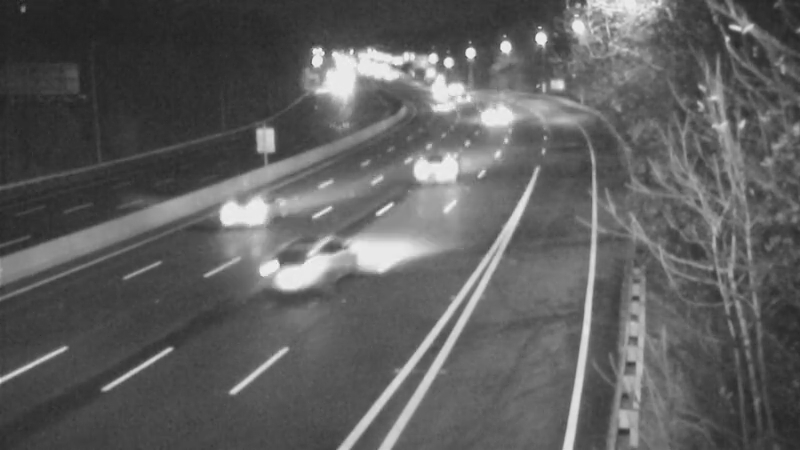vehicle: (403, 132, 483, 212), (206, 167, 286, 247), (249, 225, 329, 305), (410, 84, 460, 134), (469, 84, 519, 134)
